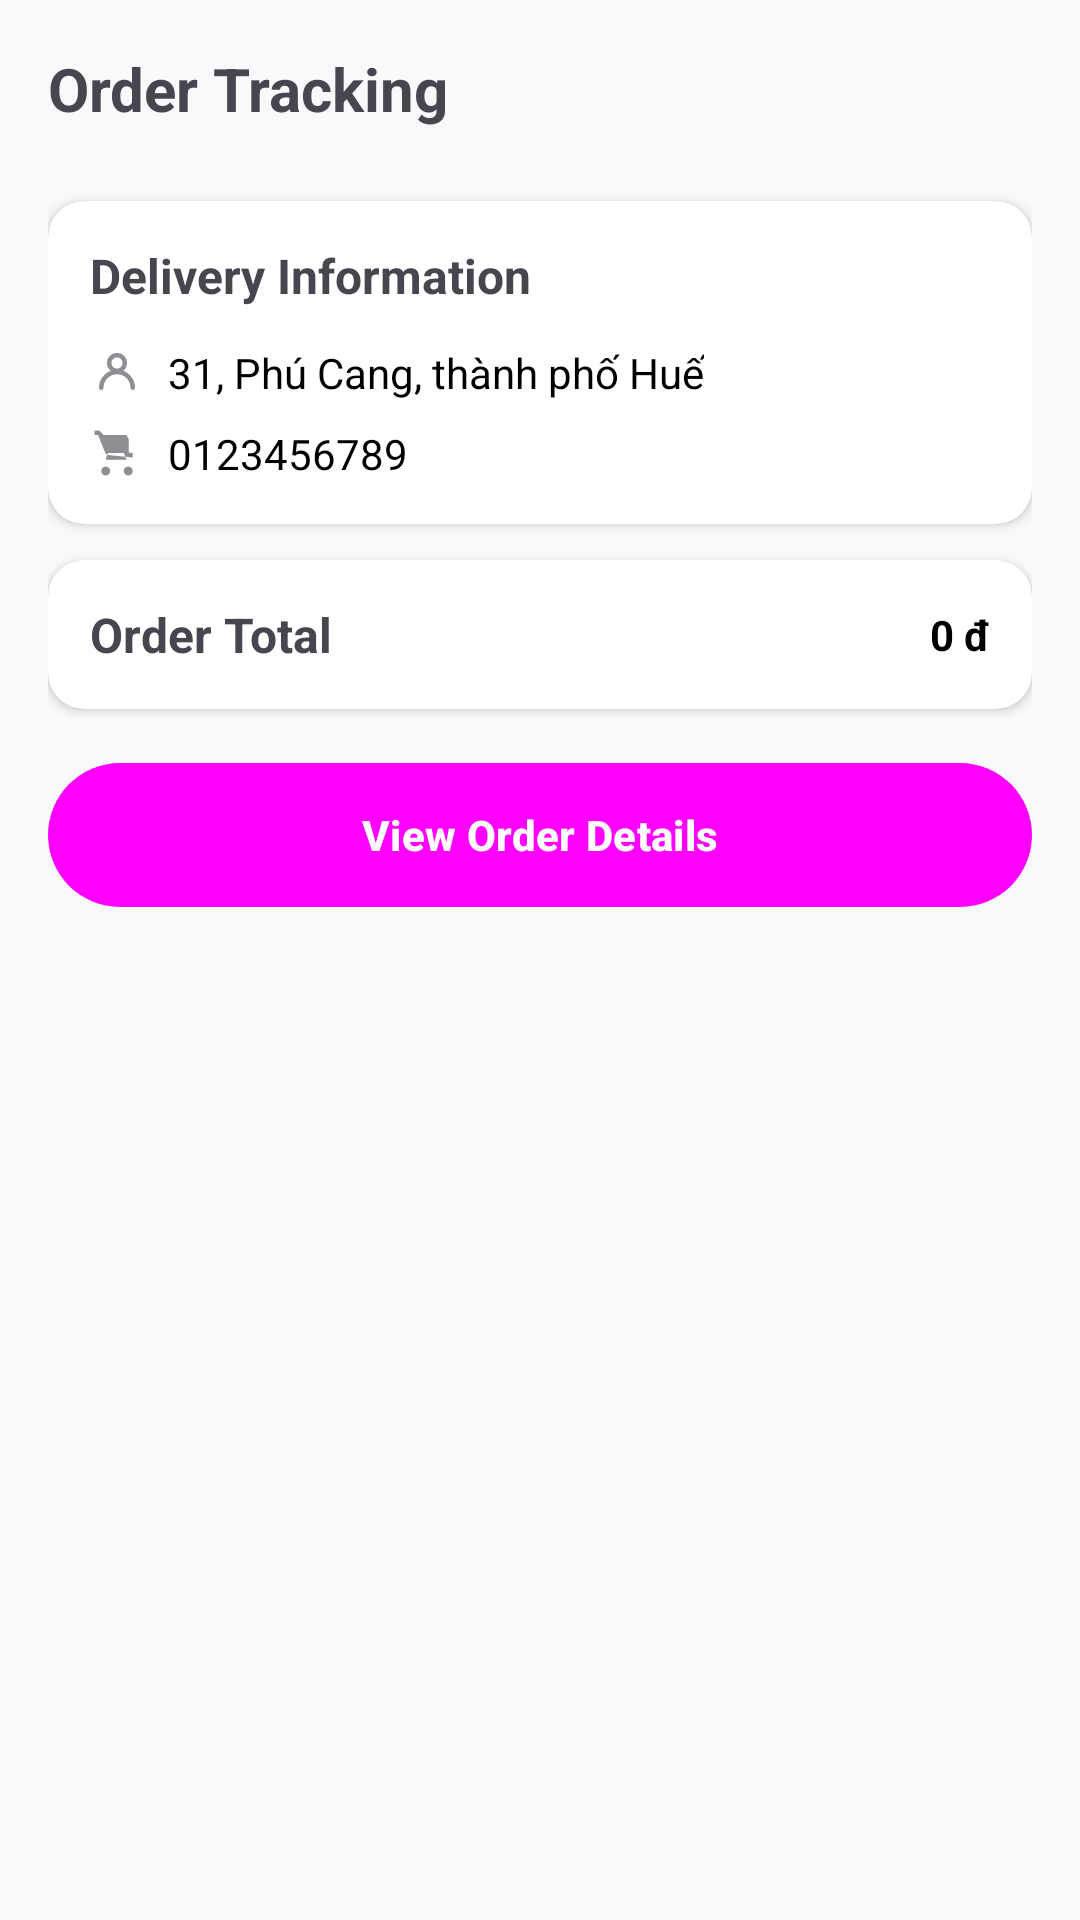

Named icons in this screenshot (1080×1920) and their centers, (x=x, y=y):
cart: (x=113, y=453)
profile: (x=117, y=371)
